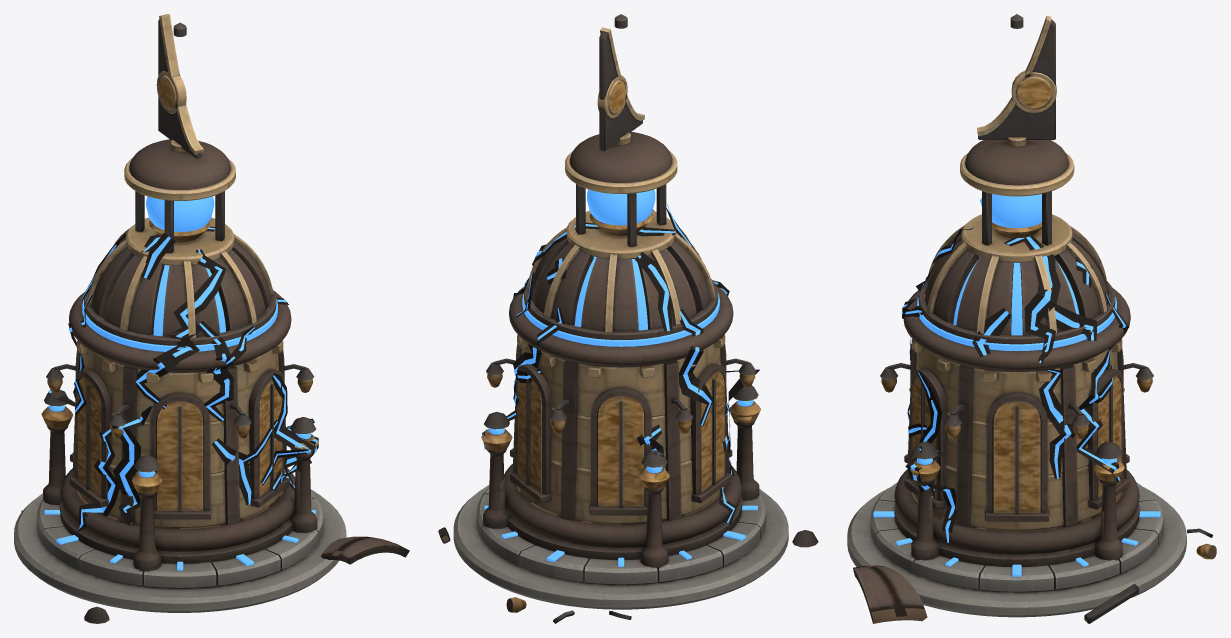
Rendered from needle_inner_serenade.glb.
3 views of the same model, side by side, from view 1: azimuth 30°, elevation 25°; view 2: azimuth 150°, elevation 25°; view 3: azimuth 270°, elevation 25° (orthographic). The views are drawn at different scales.
Visible parts, largest first — view 1: needle_inner_serenade_upper, needle_inner_serenade_base, needle_inner_serenade_dmg1, needle_inner_serenade_dmg2, needle_inner_serenade_ruin, needle_inner_serenade_glow.001, needle_inner_serenade_chip1, needle_inner_serenade_core, needle_inner_serenade_chip2, needle_inner_serenade_glow_base; view 2: needle_inner_serenade_upper, needle_inner_serenade_base, needle_inner_serenade_dmg1, needle_inner_serenade_glow.001, needle_inner_serenade_ruin, needle_inner_serenade_dmg2, needle_inner_serenade_chip2, needle_inner_serenade_core, needle_inner_serenade_chip1, needle_inner_serenade_glow_base; view 3: needle_inner_serenade_upper, needle_inner_serenade_base, needle_inner_serenade_dmg2, needle_inner_serenade_ruin, needle_inner_serenade_dmg1, needle_inner_serenade_glow.001, needle_inner_serenade_chip2, needle_inner_serenade_chip1, needle_inner_serenade_core, needle_inner_serenade_glow_base.
Part boxes in pixels (x1,y1,x2,y2): needle_inner_serenade_upper: [41, 14, 318, 571]; needle_inner_serenade_base: [14, 489, 346, 612]; needle_inner_serenade_dmg1: [46, 220, 288, 532]; needle_inner_serenade_dmg2: [81, 233, 318, 505]; needle_inner_serenade_ruin: [21, 407, 409, 623]; needle_inner_serenade_glow.001: [49, 265, 311, 477]; needle_inner_serenade_chip1: [101, 22, 258, 383]; needle_inner_serenade_core: [146, 196, 214, 232]; needle_inner_serenade_chip2: [135, 191, 273, 295]; needle_inner_serenade_glow_base: [44, 510, 315, 570]; needle_inner_serenade_upper: [481, 27, 760, 567]; needle_inner_serenade_base: [453, 485, 788, 609]; needle_inner_serenade_dmg1: [513, 210, 759, 524]; needle_inner_serenade_glow.001: [488, 256, 753, 473]; needle_inner_serenade_ruin: [438, 407, 818, 623]; needle_inner_serenade_dmg2: [482, 204, 691, 449]; needle_inner_serenade_chip2: [542, 184, 652, 367]; needle_inner_serenade_core: [587, 189, 655, 225]; needle_inner_serenade_chip1: [597, 14, 725, 348]; needle_inner_serenade_glow_base: [484, 505, 757, 566]; needle_inner_serenade_upper: [880, 15, 1153, 566]; needle_inner_serenade_base: [847, 482, 1186, 617]; needle_inner_serenade_dmg2: [901, 198, 1129, 542]; needle_inner_serenade_ruin: [853, 462, 1216, 623]; needle_inner_serenade_dmg1: [916, 227, 1096, 364]; needle_inner_serenade_glow.001: [917, 256, 1117, 464]; needle_inner_serenade_chip2: [977, 191, 1122, 382]; needle_inner_serenade_chip1: [911, 14, 1056, 352]; needle_inner_serenade_core: [992, 194, 1041, 228]; needle_inner_serenade_glow_base: [873, 485, 1160, 576].
Bounding box in the file's own units: 2.86 × 4.74 × 2.95.
4 materials, 1 textured.
